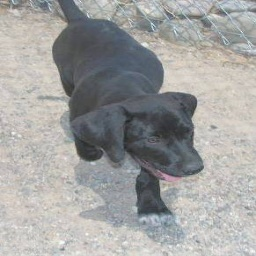dog: (47, 0, 207, 228)
